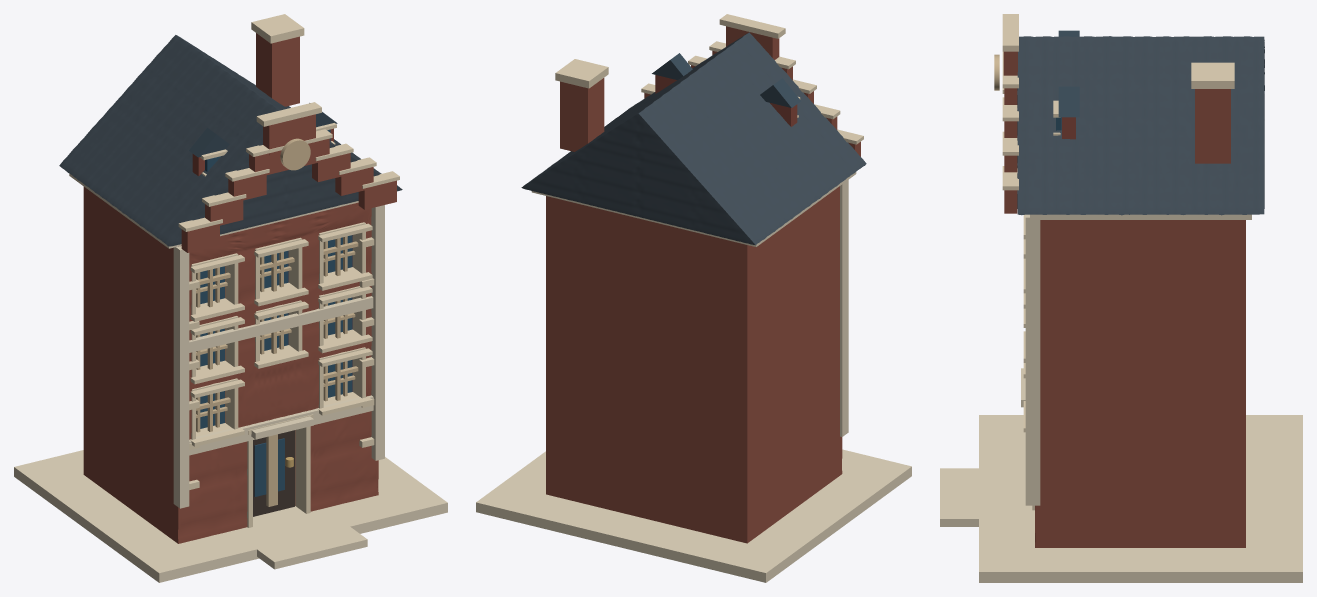
3 renders of one model, left to right at view 1: azimuth 30°, elevation 25°; view 2: azimuth 150°, elevation 25°; view 3: azimuth 270°, elevation 25°, orthographic. The views are drawn at different scales.
Parts seen in each view (by area): view 1: Solid masonry with nine true architectural recesses, Steep gable roof, Basement terrace, Vertical corner quoin -21, Vertical corner quoin 21, Historic masonry chimney stack, Entrance stair step, Facade upper stone belt, Facade plinth belt, Historic canal house entrance, Portal deep stone jamb 6.2, Central stepped gable crest (+15 smaller); view 2: Solid masonry with nine true architectural recesses, Steep gable roof, Basement terrace, Historic masonry chimney stack, Vertical corner quoin -21, Chimney crown stone course, Central carved gable top cap, Roof cornice, Dormer gable -11, Central stepped gable crest, Dormer gable 11; view 3: Solid masonry with nine true architectural recesses, Steep gable roof, Basement terrace, Vertical corner quoin 21, Entrance stair step, Historic masonry chimney stack, Roof cornice, Chimney crown stone course, Dormer gable 11, Central carved gable top cap.
Boxes of the visible parts, bbox=[...] form: Solid masonry with nine true architectural recesses: bbox=[83, 186, 378, 543]; Steep gable roof: bbox=[59, 35, 402, 246]; Basement terrace: bbox=[14, 450, 447, 582]; Vertical corner quoin -21: bbox=[173, 246, 189, 508]; Vertical corner quoin 21: bbox=[371, 205, 384, 460]; Historic masonry chimney stack: bbox=[256, 33, 299, 106]; Entrance stair step: bbox=[257, 522, 367, 569]; Facade upper stone belt: bbox=[189, 296, 373, 352]; Facade plinth belt: bbox=[189, 395, 373, 455]; Historic canal house entrance: bbox=[253, 430, 294, 516]; Portal deep stone jamb 6.2: bbox=[295, 426, 310, 513]; Central stepped gable crest: bbox=[263, 114, 315, 155]; Solid masonry with nine true architectural recesses: bbox=[546, 186, 842, 543]; Steep gable roof: bbox=[521, 32, 866, 244]; Basement terrace: bbox=[476, 449, 911, 582]; Historic masonry chimney stack: bbox=[560, 78, 604, 151]; Vertical corner quoin -21: bbox=[840, 180, 848, 436]; Chimney crown stone course: bbox=[555, 59, 608, 88]; Central carved gable top cap: bbox=[719, 14, 785, 38]; Roof cornice: bbox=[531, 172, 856, 246]; Dormer gable -11: bbox=[760, 78, 800, 107]; Central stepped gable crest: bbox=[726, 26, 779, 59]; Dormer gable 11: bbox=[652, 53, 692, 79]; Solid masonry with nine true architectural recesses: bbox=[1035, 220, 1245, 547]; Steep gable roof: bbox=[1017, 36, 1264, 215]; Basement terrace: bbox=[979, 415, 1302, 582]; Vertical corner quoin 21: bbox=[1025, 214, 1040, 505]; Entrance stair step: bbox=[940, 468, 1017, 526]; Historic masonry chimney stack: bbox=[1195, 89, 1230, 163]; Roof cornice: bbox=[1030, 214, 1251, 219]; Chimney crown stone course: bbox=[1191, 62, 1234, 88]; Dormer gable 11: bbox=[1058, 86, 1079, 117]; Central carved gable top cap: bbox=[1002, 14, 1018, 51].
Bounding box in the file's own units: 0.062 × 0.0875 × 0.0605.
